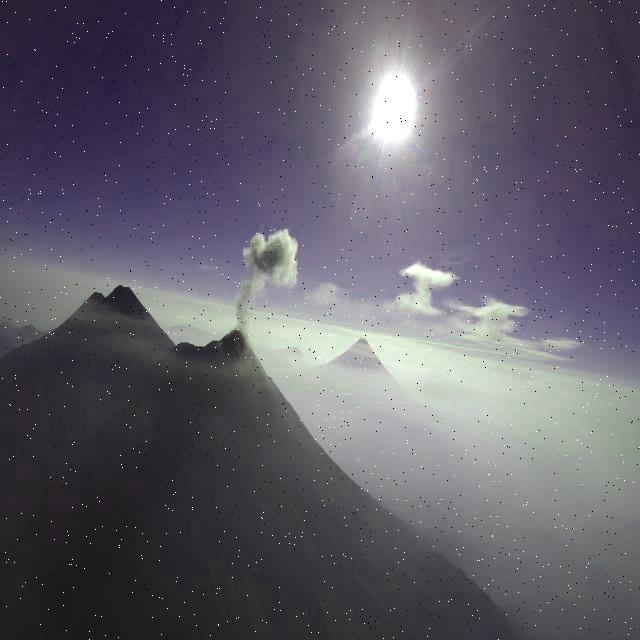Plume: (232, 220, 304, 330)
Summit: (146, 326, 260, 387)
